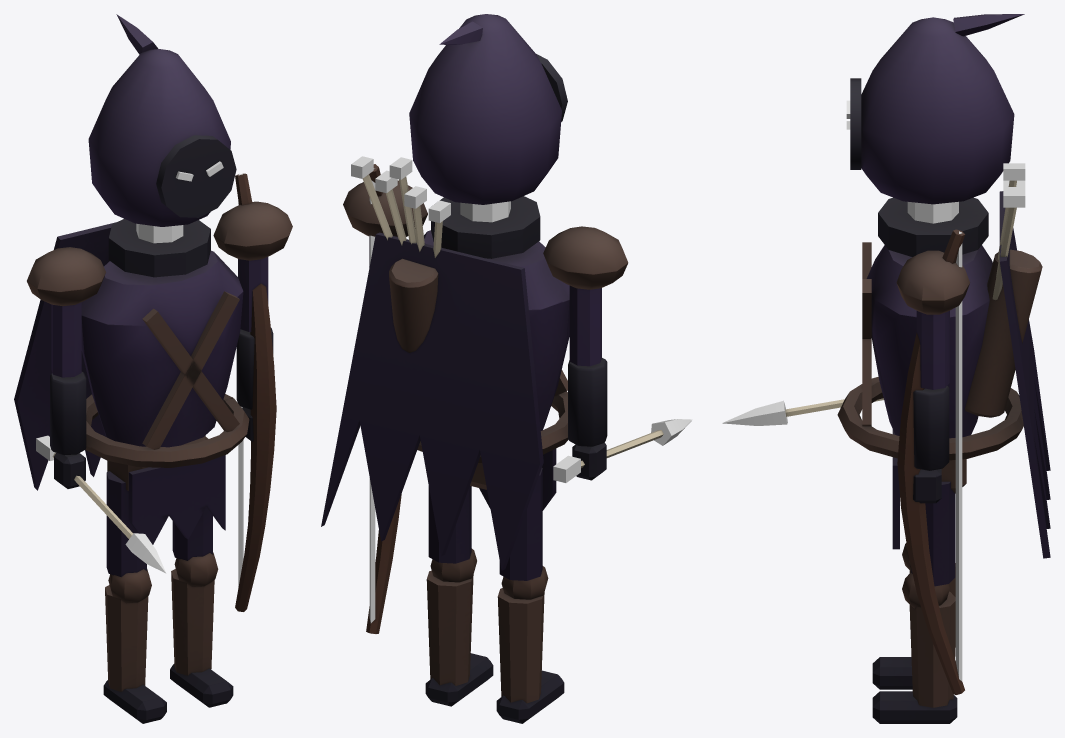
Rendered from foe_archer.fbx.
3 views of the same model, side by side, from view 1: azimuth 30°, elevation 25°; view 2: azimuth 150°, elevation 25°; view 3: azimuth 270°, elevation 25° (orthographic). The views are drawn at different scales.
Parts seen in each view (by area): view 1: foe_archer_body, foe_archer_head, foe_archer_leg_fl, foe_archer_leg_fr, foe_archer_leg_br, foe_archer_leg_bl, foe_archer_tail, foe_archer_leg_fr_glow, foe_archer_head_glow, foe_archer_leg_fl_glow; view 2: foe_archer_tail, foe_archer_head, foe_archer_body, foe_archer_leg_fr, foe_archer_leg_br, foe_archer_leg_bl, foe_archer_leg_fl, foe_archer_body_glow, foe_archer_leg_fr_glow, foe_archer_leg_fl_glow, foe_archer_head_glow; view 3: foe_archer_body, foe_archer_head, foe_archer_leg_fl, foe_archer_leg_bl, foe_archer_tail, foe_archer_leg_fl_glow, foe_archer_leg_br, foe_archer_head_glow, foe_archer_body_glow, foe_archer_leg_fr_glow.
Boxes of the visible parts, x1=… form: foe_archer_body: x1=81, y1=219, x2=249, y2=544; foe_archer_head: x1=88, y1=14, x2=236, y2=226; foe_archer_leg_fl: x1=213, y1=173, x2=292, y2=611; foe_archer_leg_fr: x1=27, y1=247, x2=133, y2=538; foe_archer_leg_br: x1=103, y1=471, x2=166, y2=723; foe_archer_leg_bl: x1=170, y1=507, x2=233, y2=707; foe_archer_tail: x1=14, y1=222, x2=205, y2=490; foe_archer_leg_fr_glow: x1=36, y1=435, x2=166, y2=573; foe_archer_head_glow: x1=136, y1=161, x2=223, y2=243; foe_archer_leg_fl_glow: x1=238, y1=173, x2=243, y2=587; foe_archer_tail: x1=321, y1=232, x2=543, y2=570; foe_archer_head: x1=409, y1=14, x2=567, y2=204; foe_archer_body: x1=362, y1=174, x2=569, y2=510; foe_archer_leg_fr: x1=543, y1=226, x2=663, y2=480; foe_archer_leg_br: x1=496, y1=468, x2=564, y2=723; foe_archer_leg_bl: x1=425, y1=486, x2=493, y2=706; foe_archer_leg_fl: x1=343, y1=164, x2=427, y2=633; foe_archer_body_glow: x1=351, y1=156, x2=450, y2=222; foe_archer_leg_fr_glow: x1=553, y1=419, x2=692, y2=482; foe_archer_leg_fl_glow: x1=369, y1=168, x2=375, y2=633; foe_archer_head_glow: x1=460, y1=201, x2=510, y2=222; foe_archer_body: x1=837, y1=180, x2=1042, y2=549; foe_archer_head: x1=850, y1=14, x2=1024, y2=204; foe_archer_leg_fl: x1=896, y1=229, x2=969, y2=694; foe_archer_leg_bl: x1=872, y1=481, x2=957, y2=723; foe_archer_tail: x1=999, y1=191, x2=1050, y2=558; foe_archer_leg_fl_glow: x1=955, y1=231, x2=962, y2=681; foe_archer_leg_br: x1=872, y1=543, x2=955, y2=689; foe_archer_head_glow: x1=846, y1=100, x2=958, y2=223; foe_archer_body_glow: x1=1003, y1=163, x2=1025, y2=207; foe_archer_leg_fr_glow: x1=722, y1=400, x2=787, y2=425.
Bounding box in the file's own units: 271 × 659 × 286.
Materials: 2 (1 with a texture image).
